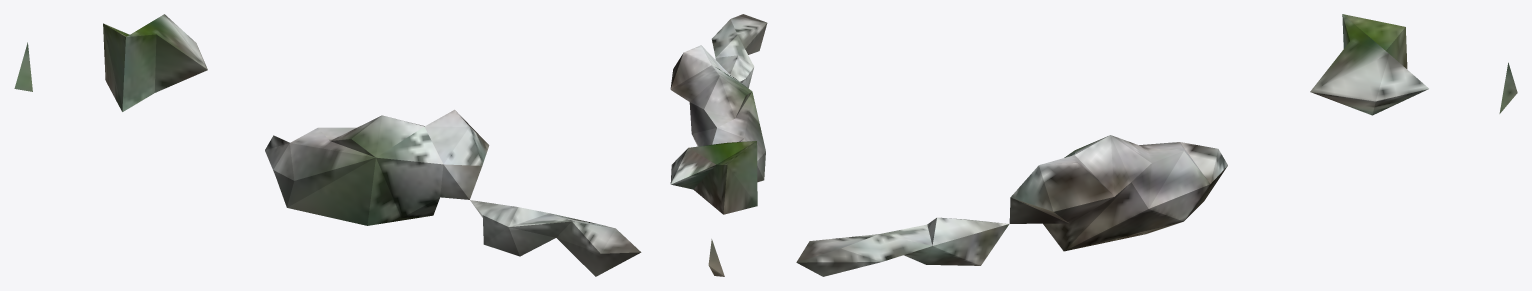
3 views of the same model, side by side, from view 1: azimuth 30°, elevation 25°; view 2: azimuth 150°, elevation 25°; view 3: azimuth 270°, elevation 25° (orthographic). The views are drawn at different scales.
Size of the model in its own units: 0.4585 by 0.2069 by 0.8651.
Materials: 1 (1 with a texture image).
